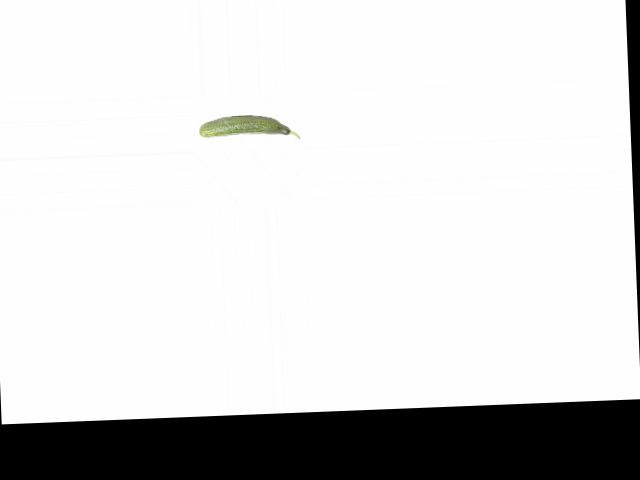cucumber: (199, 113, 301, 142)
